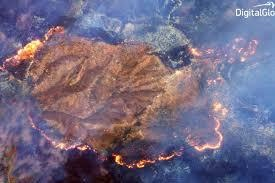fire: (1, 23, 65, 67)
